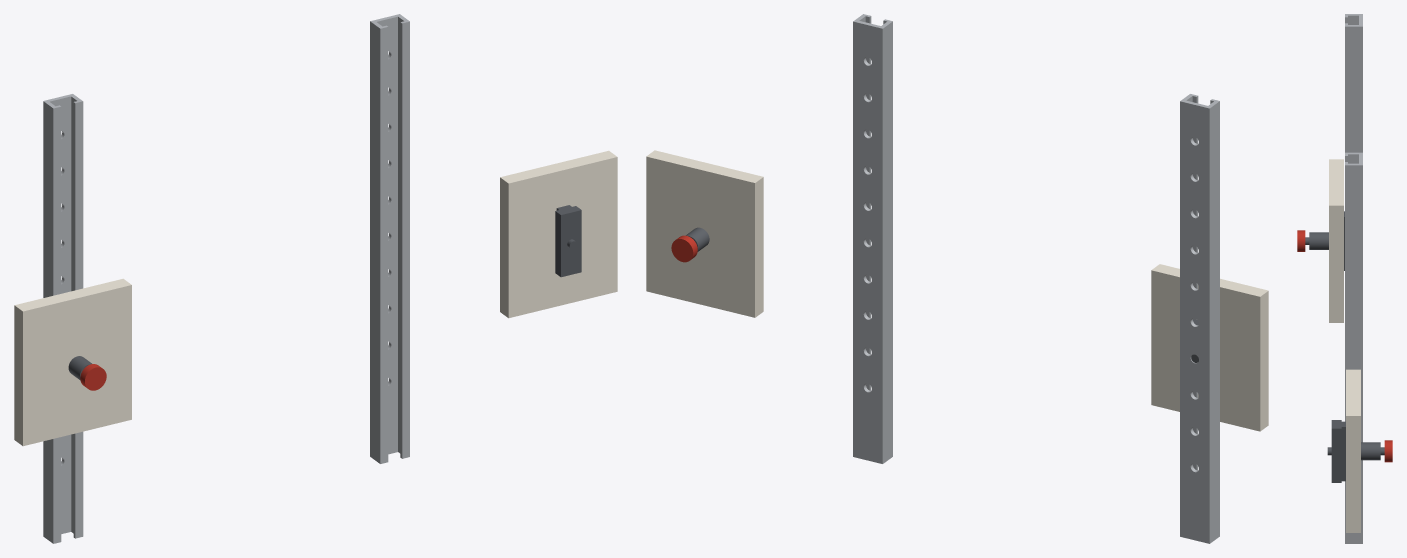
The model's file is 2-2_spring_plunger.glb.
3 renders of one model, left to right at view 1: azimuth 30°, elevation 25°; view 2: azimuth 150°, elevation 25°; view 3: azimuth 270°, elevation 25°, orthographic. The views are drawn at different scales.
Parts seen in each view (by area): view 1: opened/leg_rail_c_channel, assembled/box_side_wall, opened/box_side_wall, assembled/leg_rail_c_channel, opened/guide_block; view 2: opened/leg_rail_c_channel, assembled/leg_rail_c_channel, opened/box_side_wall, assembled/box_side_wall; view 3: opened/leg_rail_c_channel, assembled/leg_rail_c_channel, assembled/box_side_wall, opened/box_side_wall, opened/guide_block, opened/spring_housing, assembled/spring_housing, opened/pull_knob, assembled/pull_knob.
Part boxes in pixels (left/top/right/bottom): opened/leg_rail_c_channel: left=370, top=14, right=409, bottom=463; assembled/box_side_wall: left=14, top=278, right=131, bottom=446; opened/box_side_wall: left=500, top=150, right=617, bottom=318; assembled/leg_rail_c_channel: left=43, top=94, right=83, bottom=543; opened/guide_block: left=555, top=205, right=581, bottom=277; opened/leg_rail_c_channel: left=853, top=14, right=892, bottom=463; assembled/leg_rail_c_channel: left=1180, top=94, right=1219, bottom=543; opened/box_side_wall: left=646, top=150, right=763, bottom=317; assembled/box_side_wall: left=1151, top=264, right=1268, bottom=431; opened/leg_rail_c_channel: left=1345, top=152, right=1362, bottom=543; assembled/leg_rail_c_channel: left=1345, top=14, right=1362, bottom=152; assembled/box_side_wall: left=1329, top=159, right=1343, bottom=322; opened/box_side_wall: left=1346, top=369, right=1360, bottom=532; opened/guide_block: left=1331, top=420, right=1345, bottom=482; opened/spring_housing: left=1361, top=442, right=1380, bottom=460; assembled/spring_housing: left=1309, top=232, right=1328, bottom=249; opened/pull_knob: left=1384, top=440, right=1392, bottom=462; assembled/pull_knob: left=1297, top=230, right=1305, bottom=251.
Size of the model in its own units: 0.61 by 0.42 by 0.096.
